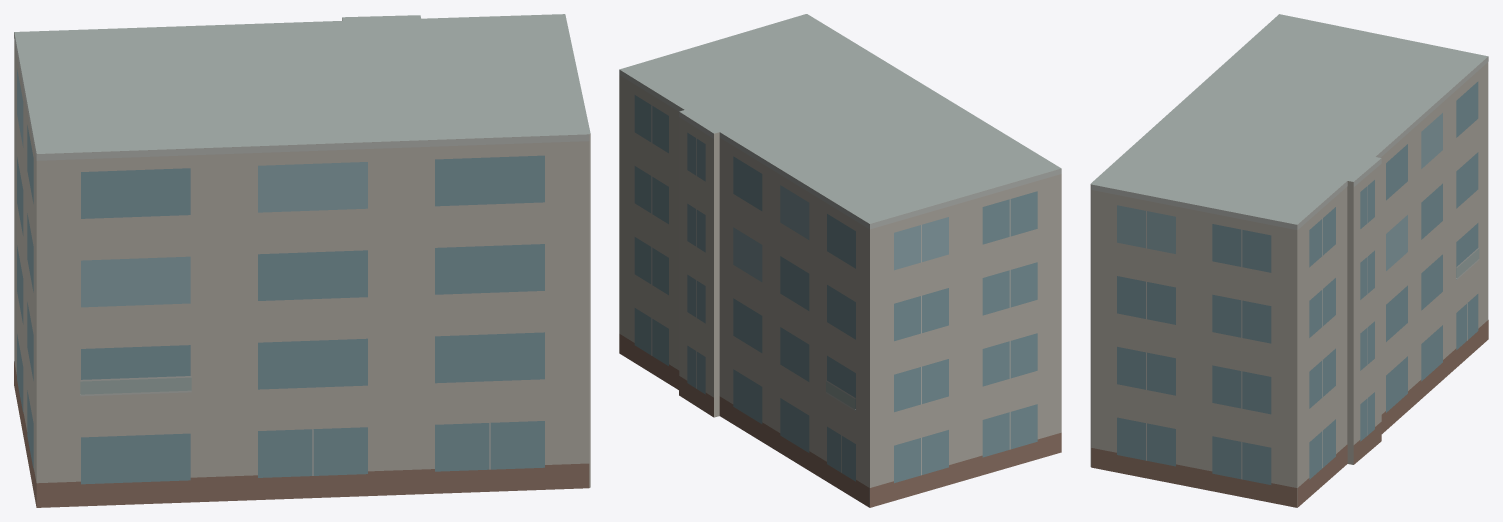
Rendered from survey-upis-32633511.glb.
3 views of the same model, side by side, from view 1: azimuth 30°, elevation 25°; view 2: azimuth 150°, elevation 25°; view 3: azimuth 270°, elevation 25° (orthographic). The views are drawn at different scales.
Parts seen in each view (by area): view 1: survey-upis-32633511.tmp; view 2: survey-upis-32633511.tmp; view 3: survey-upis-32633511.tmp.
Part boxes in pixels (x1,y1,x2,y2): survey-upis-32633511.tmp: [14, 14, 590, 507]; survey-upis-32633511.tmp: [619, 14, 1061, 507]; survey-upis-32633511.tmp: [1090, 14, 1488, 507].
Bounding box in the file's own units: 20.38 × 12.75 × 16.25.
